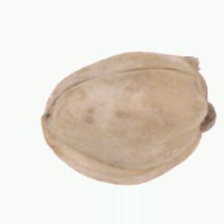L1: (193, 57, 217, 144), (41, 92, 57, 154)
L2: (42, 51, 216, 186)
